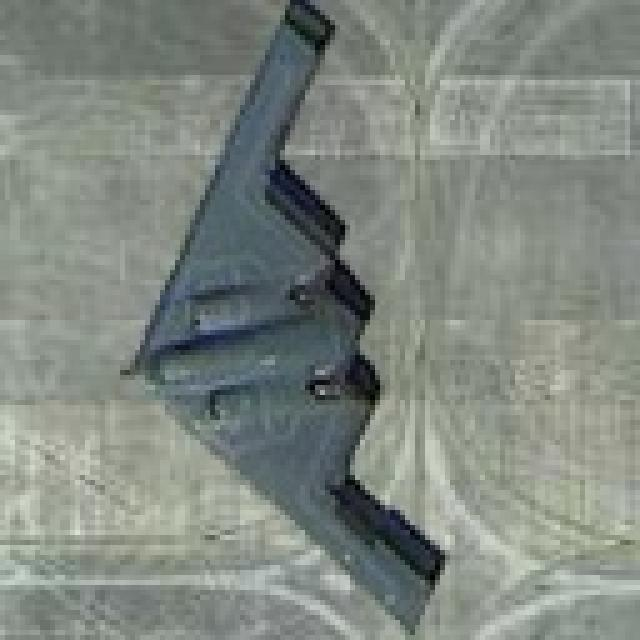B-2_TopDown: (115, 0, 455, 635)
